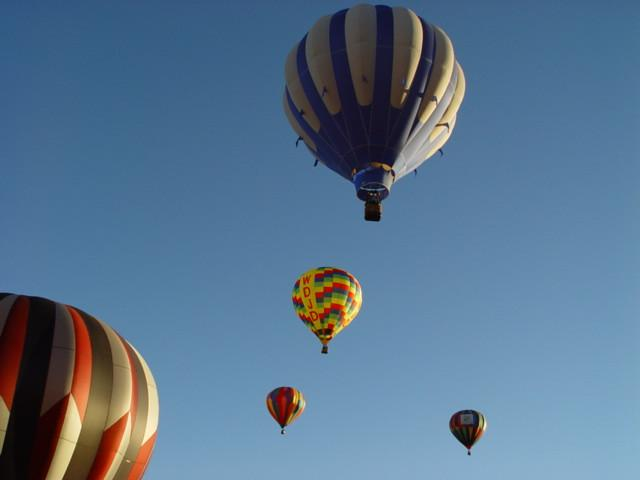balloon: (283, 3, 467, 221), (2, 293, 163, 480), (294, 267, 362, 357), (269, 387, 308, 438), (449, 409, 485, 455)
